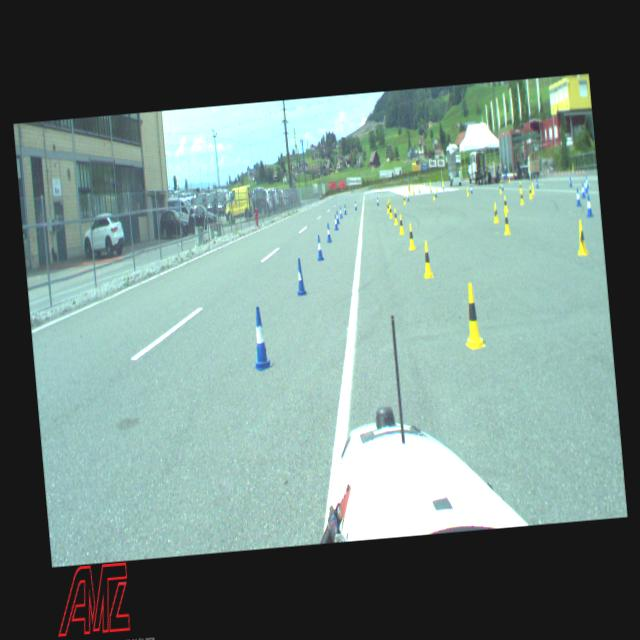blue_cone: (248, 306, 272, 370), (294, 258, 306, 296), (314, 235, 324, 260), (584, 194, 592, 216), (325, 222, 332, 242), (574, 188, 581, 205), (333, 214, 338, 230), (580, 182, 585, 198), (335, 210, 339, 223), (338, 206, 342, 218), (584, 180, 588, 192), (406, 192, 409, 201), (344, 203, 346, 214), (354, 200, 356, 210), (376, 197, 378, 206)
yellow_cone: (460, 282, 485, 348), (421, 240, 434, 278), (575, 218, 588, 256), (406, 222, 416, 249), (502, 210, 510, 234), (492, 202, 499, 222), (398, 213, 404, 234), (392, 207, 398, 224), (502, 195, 508, 212), (518, 190, 524, 204), (388, 205, 393, 218), (528, 185, 532, 198), (386, 200, 390, 212), (403, 194, 406, 204), (388, 198, 390, 208)
